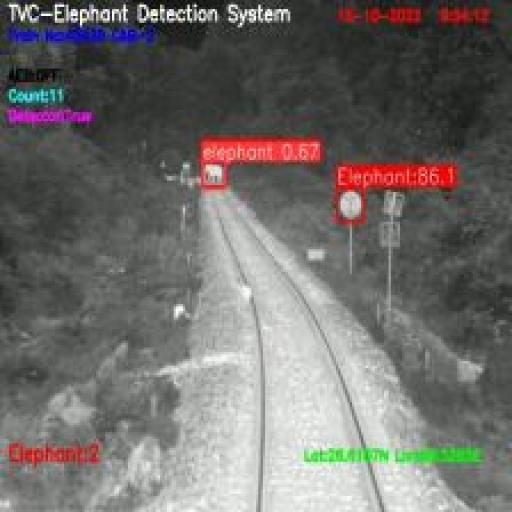Elephant: (204, 160, 226, 187)
